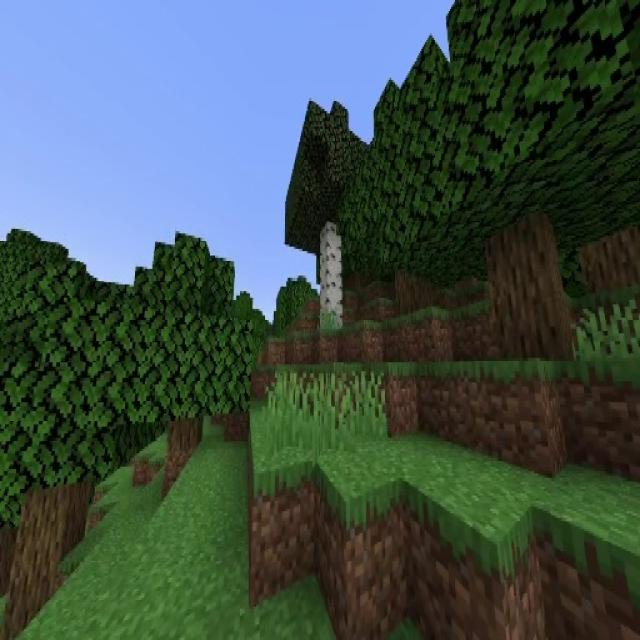birch: (285, 100, 377, 334)
birch_log: (321, 221, 343, 332)
oak: (401, 0, 634, 362), (0, 271, 141, 630), (123, 234, 250, 452), (354, 102, 461, 317)
oak_log: (2, 478, 92, 622), (488, 214, 566, 366), (589, 222, 640, 295), (394, 270, 430, 316), (169, 417, 201, 455)
